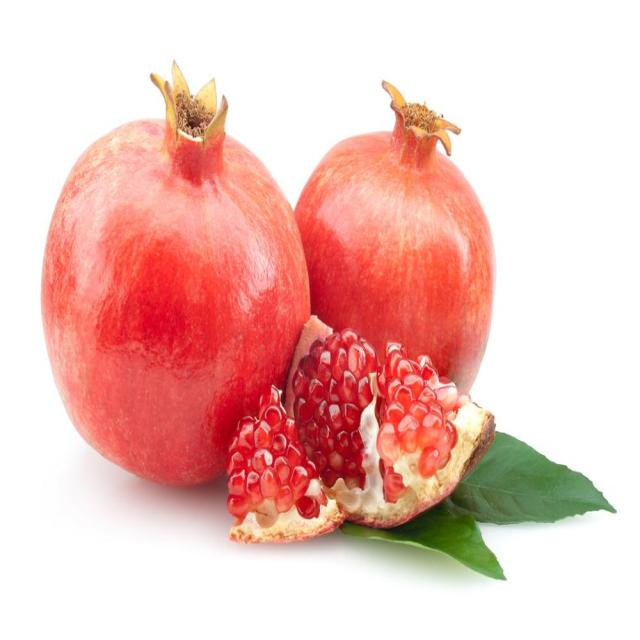Pomegranate: (41, 63, 310, 486), (226, 317, 494, 542), (295, 99, 495, 391)
